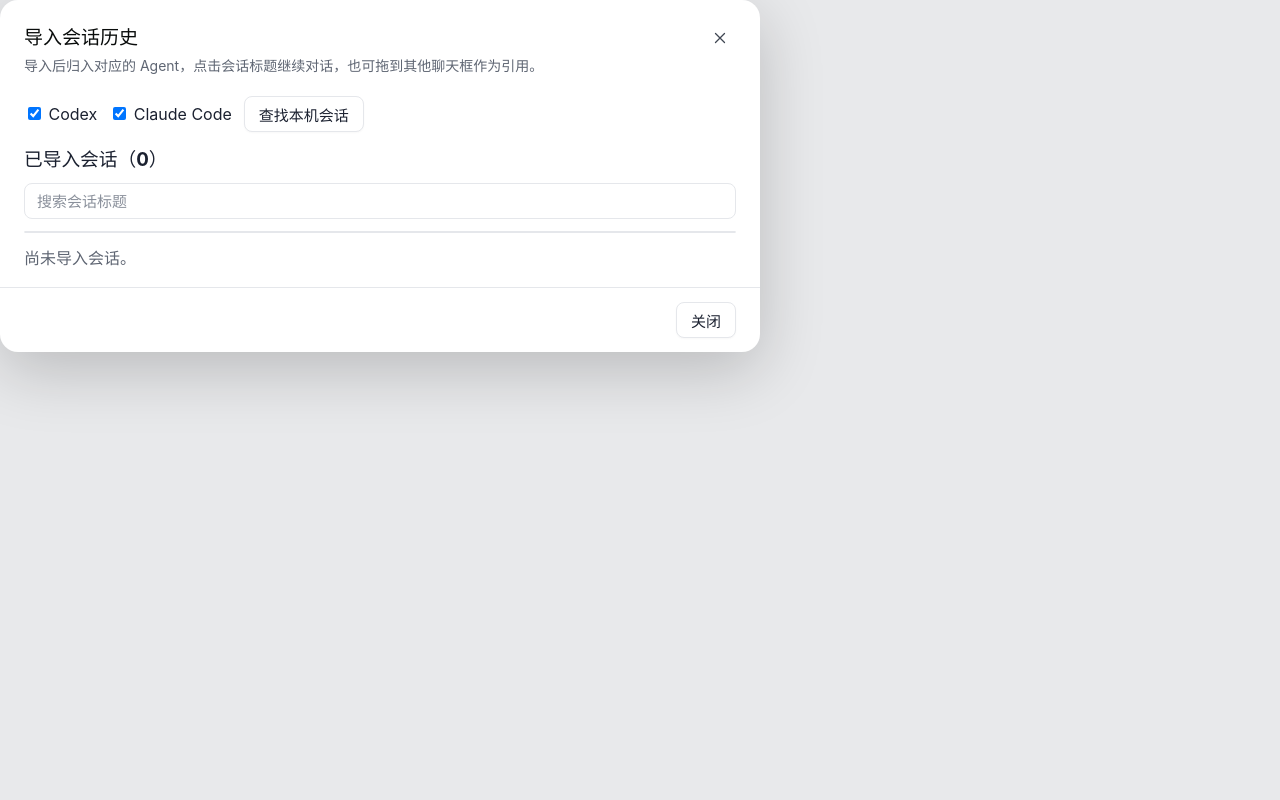
HIST-01 scans once, previews real metadata, imports selected entries and lists the saved archive
Click the button "查找本机会话" at (304, 114), box [244, 96, 364, 132]
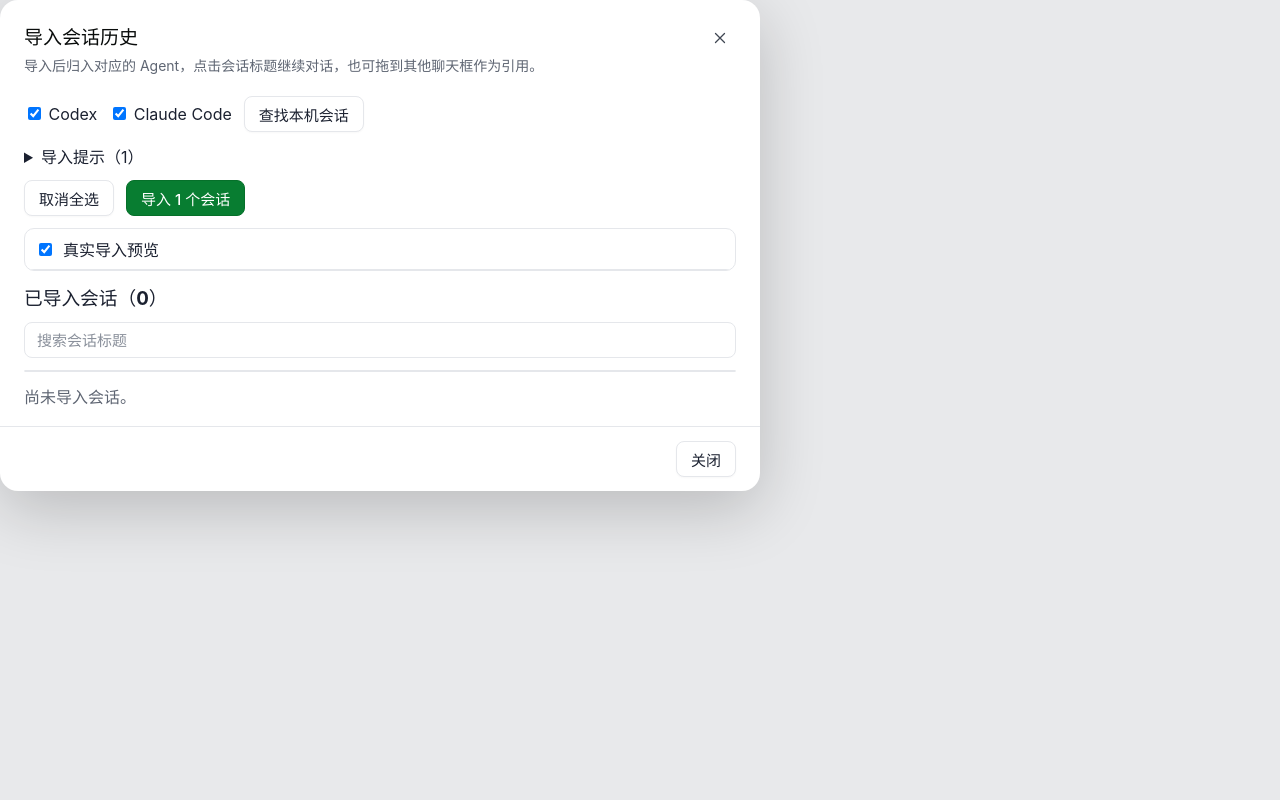
Expected: the text "真实导入预览" is shown, [63, 237, 159, 261]
Expected: the button "导入 1 个会话" is shown
Click the button "导入 1 个会话" at (186, 198), box [126, 180, 245, 216]
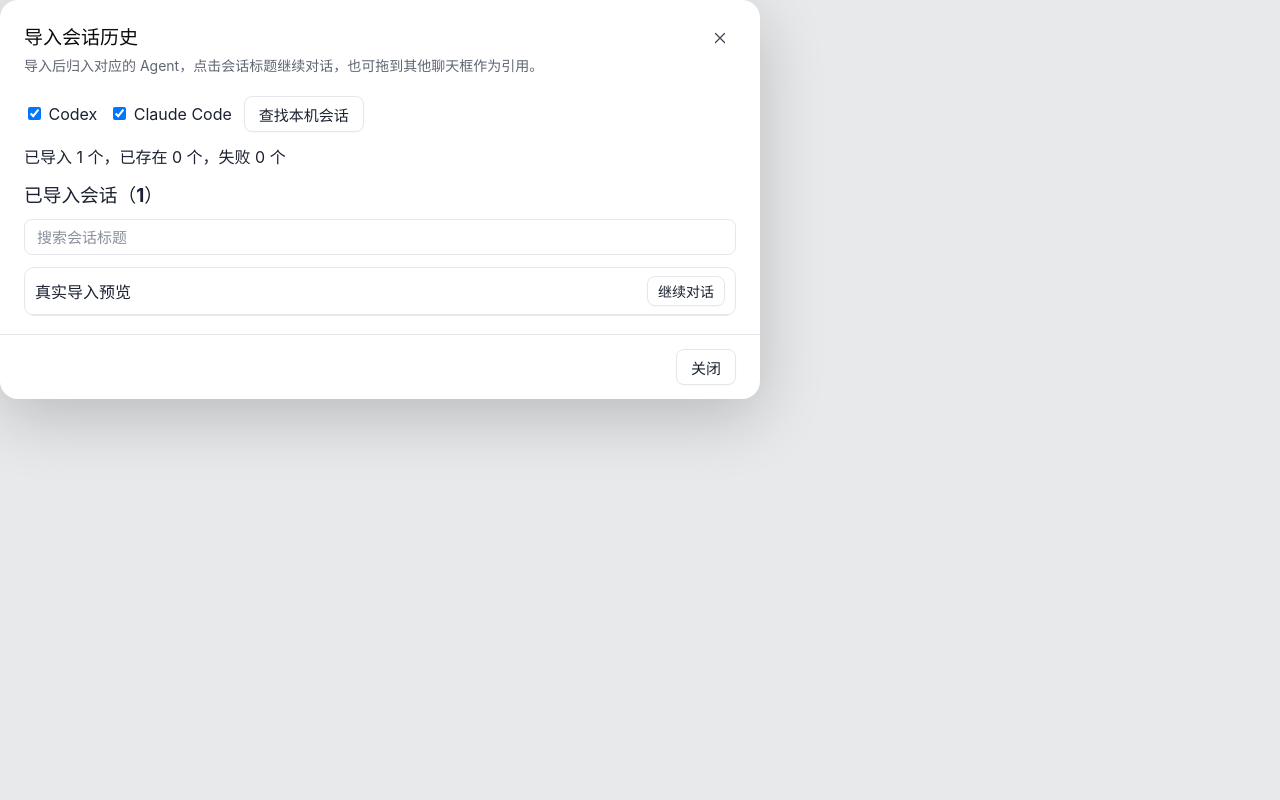
Expected: the text "已导入 1 个，已存在 0 个，失败 0 个" is shown, [24, 147, 286, 167]
Expected: the text "已导入会话（1）" is shown, [24, 184, 163, 207]
